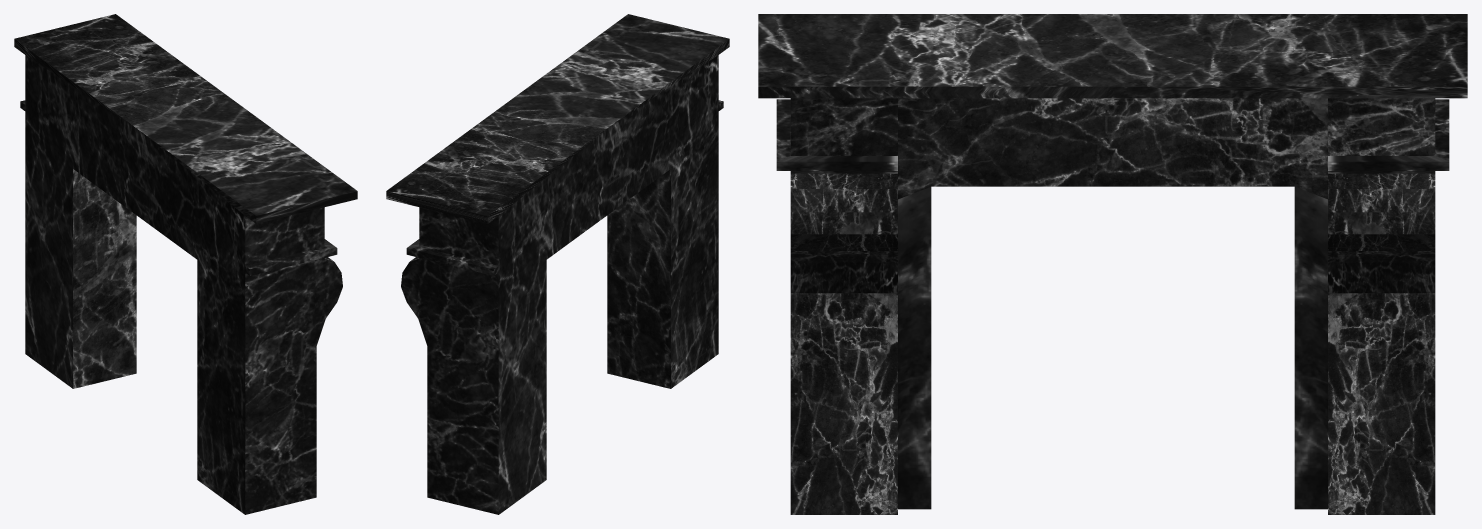
File: Chimney.gltf
3 renders of one model, left to right at view 1: azimuth 30°, elevation 25°; view 2: azimuth 150°, elevation 25°; view 3: azimuth 270°, elevation 25°, orthographic. The views are drawn at different scales.
Visible parts, largest first — view 1: Chimney; view 2: Chimney; view 3: Chimney.
Part boxes in pixels (left/top/right/bottom): Chimney: left=14, top=14, right=357, bottom=514; Chimney: left=386, top=14, right=729, bottom=514; Chimney: left=758, top=14, right=1467, bottom=514.
Bounding box in the file's own units: 2.46 × 7.1 × 10.14.
1 material, 1 textured.
